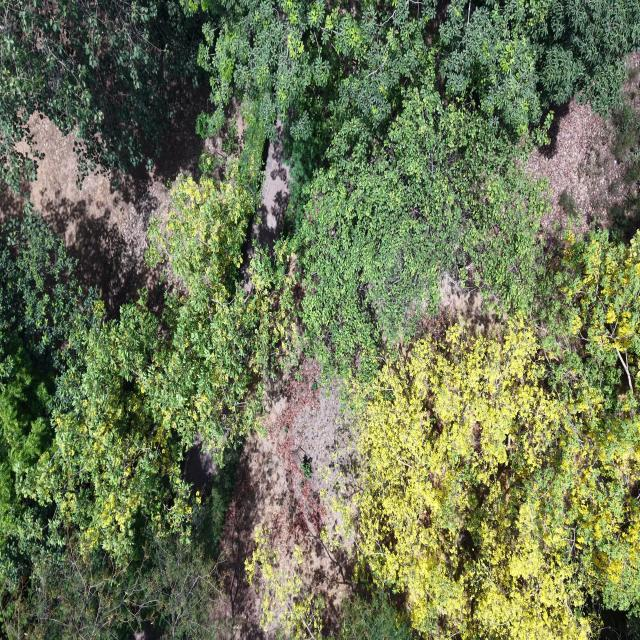DRY_AREA: (0, 91, 208, 316), (23, 92, 221, 315), (25, 92, 212, 313), (24, 91, 207, 315), (213, 361, 354, 639), (215, 361, 355, 639), (216, 361, 355, 639), (215, 362, 354, 639), (214, 362, 352, 639), (215, 362, 352, 638), (213, 363, 350, 639), (218, 386, 344, 637), (25, 118, 170, 316), (31, 119, 170, 315), (527, 99, 626, 245), (527, 99, 624, 244), (528, 99, 624, 234), (528, 100, 620, 232), (244, 123, 289, 265), (227, 432, 279, 542), (247, 139, 289, 250), (251, 123, 289, 245), (252, 124, 289, 243), (432, 274, 499, 333), (258, 126, 289, 243), (183, 434, 217, 496), (0, 181, 30, 220)
VEGETATION_TREE: (0, 0, 639, 639), (0, 164, 293, 637), (0, 0, 639, 191), (353, 231, 639, 638), (357, 233, 639, 638), (24, 176, 290, 563), (358, 325, 639, 638), (294, 82, 548, 373), (358, 324, 587, 637), (188, 0, 639, 140), (24, 301, 194, 563), (148, 169, 294, 446), (0, 0, 202, 192), (186, 0, 435, 143), (0, 216, 93, 591), (440, 0, 639, 134), (3, 535, 227, 639), (246, 527, 411, 639), (539, 231, 639, 413), (245, 527, 324, 639), (610, 68, 639, 240), (336, 592, 411, 639)
